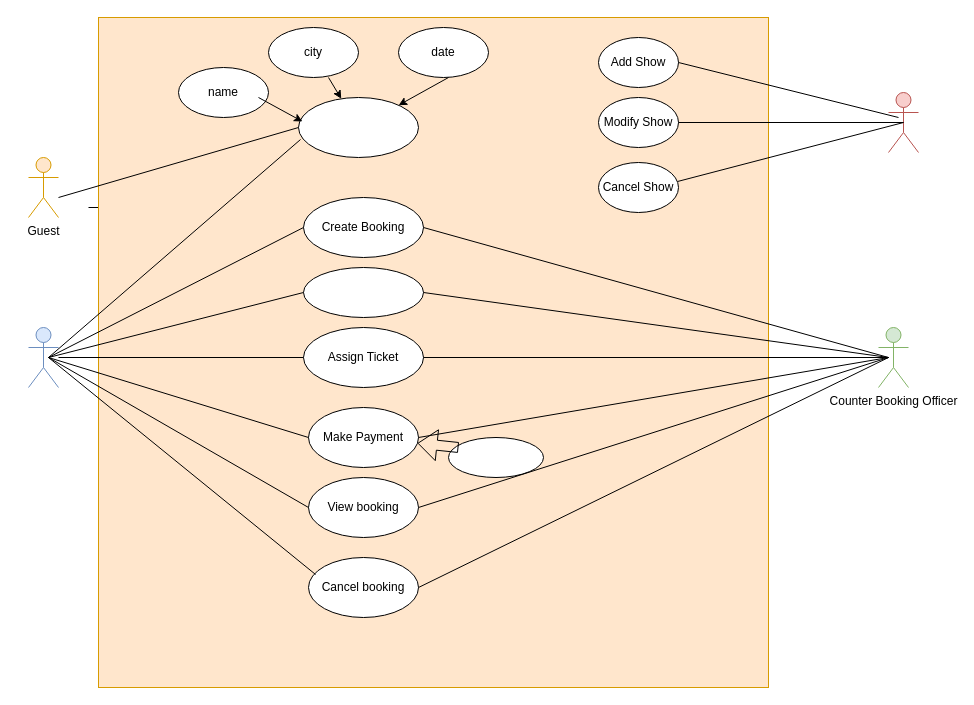
Image size: 974x705. Some labels were removed from this diagram. The shapes that lost their labels are listed below. From the top down, each one's centre as x and y in pixels, then its label:
(x=358, y=127): Search Movie
(x=903, y=122): Admin
(x=363, y=292): Login/Logout
(x=43, y=357): Customer
(x=496, y=457): Apply offers
